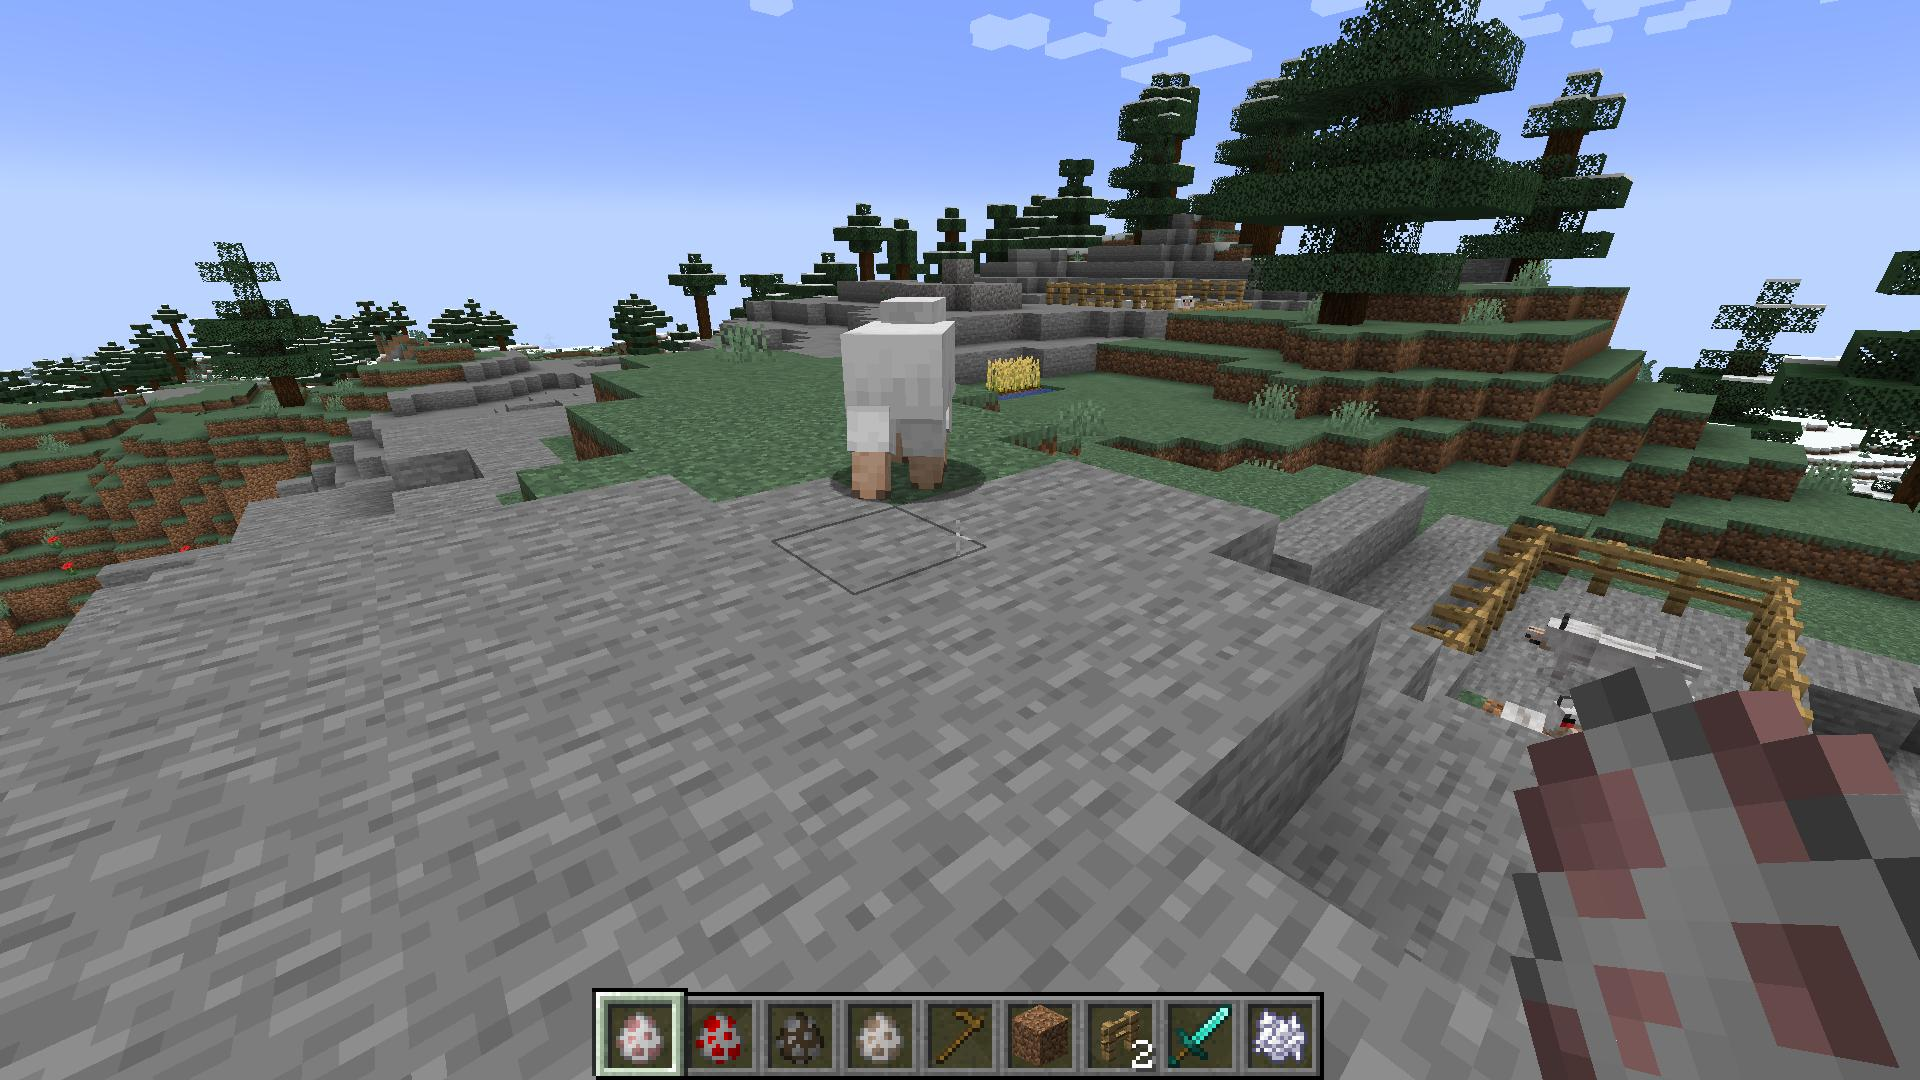sheep: (837, 290, 967, 509)
